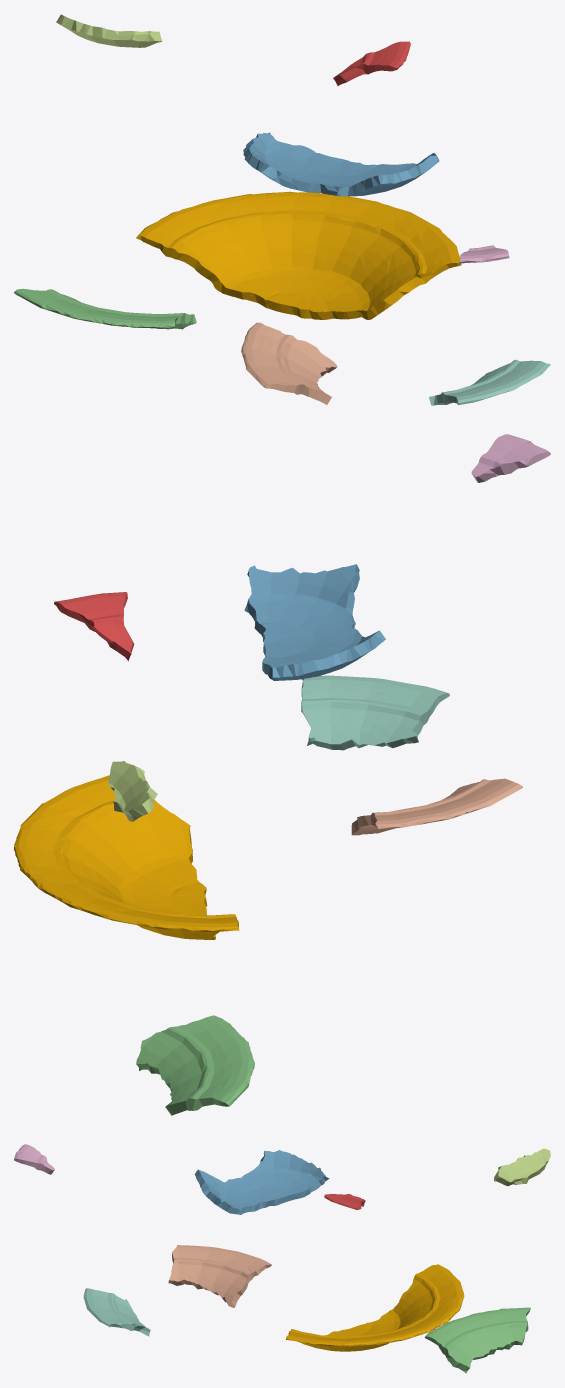
Rendered from fractured_32_8pcs_transformed.glb.
3 renders of one model, top to bottom at view 1: azimuth 30°, elevation 25°; view 2: azimuth 150°, elevation 25°; view 3: azimuth 270°, elevation 25°, orthographic. The views are drawn at different scales.
Visible parts, largest first — view 1: piece_0.obj, piece_2.obj, piece_7.obj, piece_3.obj, piece_4.obj, piece_5.obj, piece_1.obj, piece_6.obj; view 2: piece_0.obj, piece_2.obj, piece_4.obj, piece_3.obj, piece_7.obj, piece_1.obj, piece_6.obj, piece_5.obj; view 3: piece_0.obj, piece_2.obj, piece_3.obj, piece_7.obj, piece_4.obj, piece_5.obj, piece_6.obj, piece_1.obj.
Part boxes in pixels (<box>): piece_0.obj: <box>136,191,461,319</box>; piece_2.obj: <box>243,132,439,196</box>; piece_7.obj: <box>241,322,337,404</box>; piece_3.obj: <box>14,288,196,329</box>; piece_4.obj: <box>429,359,550,405</box>; piece_5.obj: <box>56,14,162,47</box>; piece_1.obj: <box>333,41,410,85</box>; piece_6.obj: <box>459,245,509,263</box>; piece_0.obj: <box>14,775,239,939</box>; piece_2.obj: <box>244,564,385,680</box>; piece_4.obj: <box>301,675,449,750</box>; piece_3.obj: <box>136,1015,254,1115</box>; piece_7.obj: <box>351,778,522,835</box>; piece_1.obj: <box>54,592,134,660</box>; piece_6.obj: <box>471,434,550,482</box>; piece_5.obj: <box>108,761,157,821</box>; piece_0.obj: <box>286,1264,464,1351</box>; piece_2.obj: <box>194,1150,329,1214</box>; piece_3.obj: <box>424,1307,530,1373</box>; piece_7.obj: <box>168,1245,271,1307</box>; piece_4.obj: <box>83,1288,150,1336</box>; piece_5.obj: <box>494,1148,550,1186</box>; piece_6.obj: <box>14,1144,54,1174</box>; piece_1.obj: <box>324,1194,365,1209</box>.
Bounding box in the file's own units: 1 × 1.01 × 2.25.
